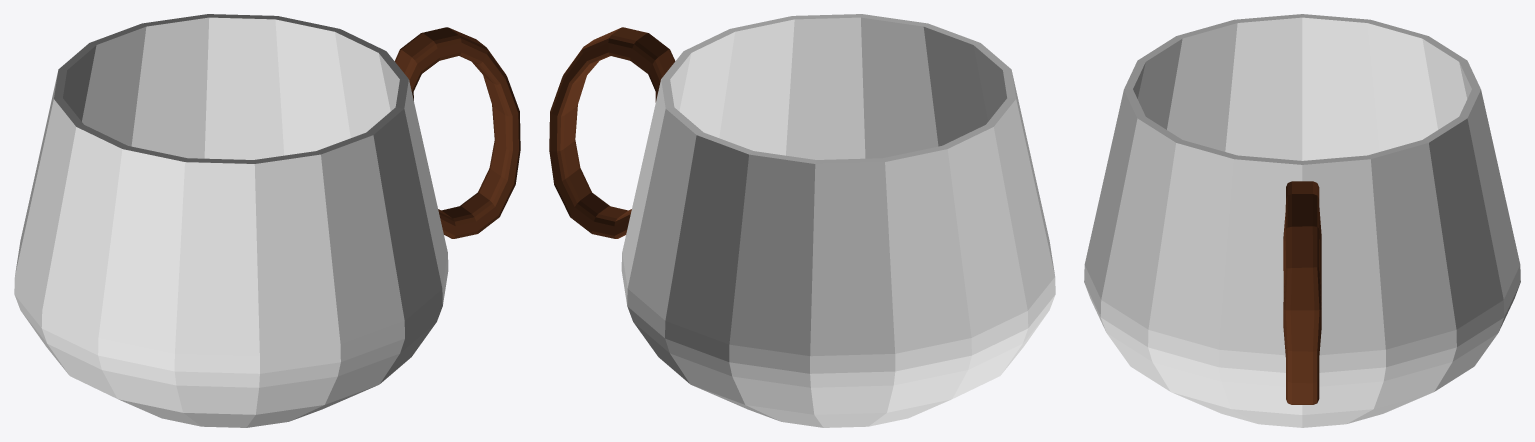
Rendered from Cup 1.fbx.
3 views of the same model, side by side, from view 1: azimuth 30°, elevation 25°; view 2: azimuth 150°, elevation 25°; view 3: azimuth 270°, elevation 25° (orthographic).
Visible parts, largest first — view 1: Node 0; view 2: Node 0; view 3: Node 0.
Boxes of the visible parts, x1,y1,x2,y2 form: Node 0: (14,14,520,427); Node 0: (549,14,1055,427); Node 0: (1084,14,1520,427).
Size of the model in its own units: 0.1132 by 0.0841 by 0.1411.
